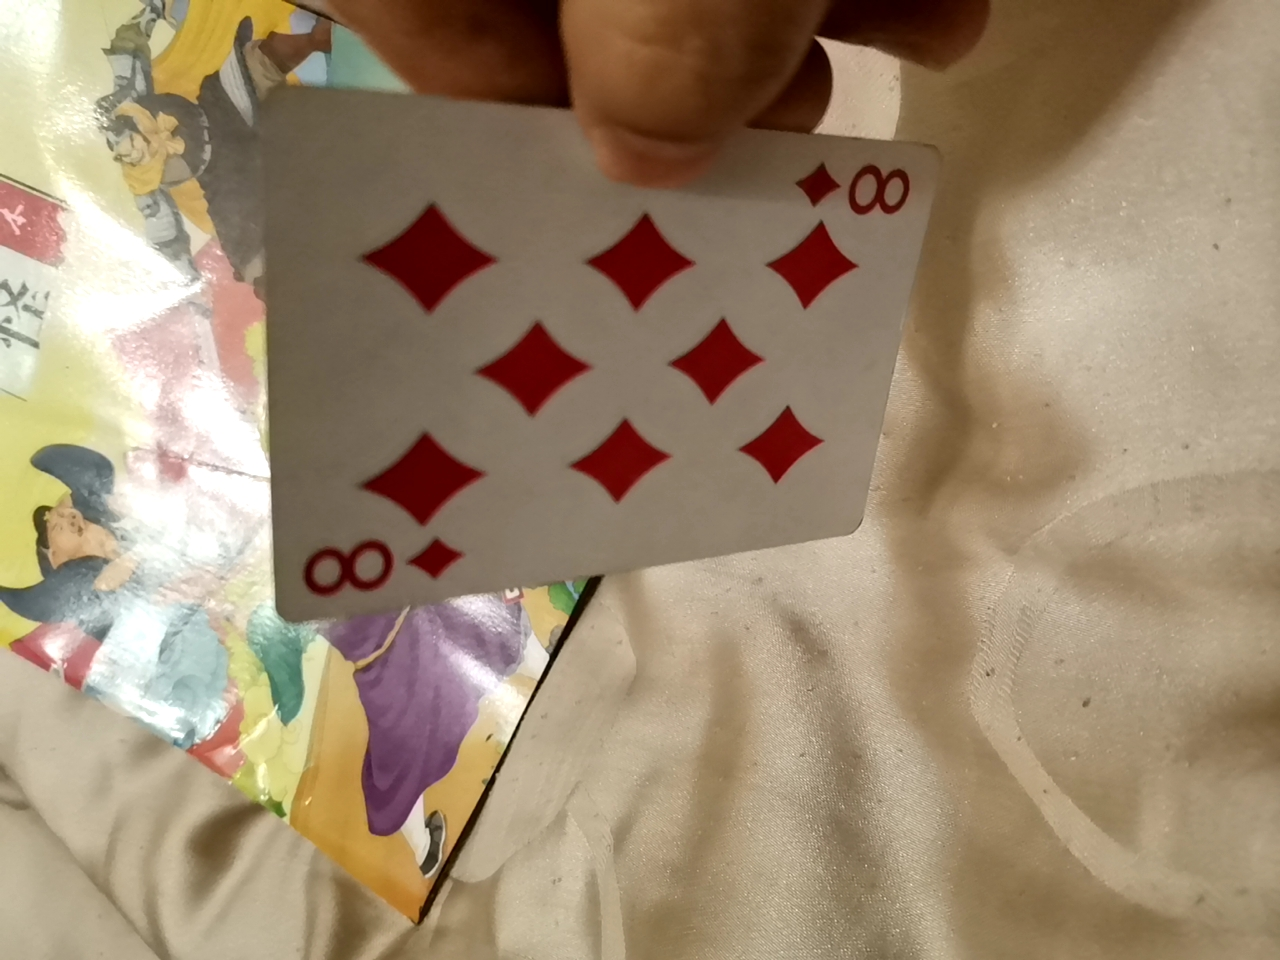fk 8: (269, 105, 952, 564)
